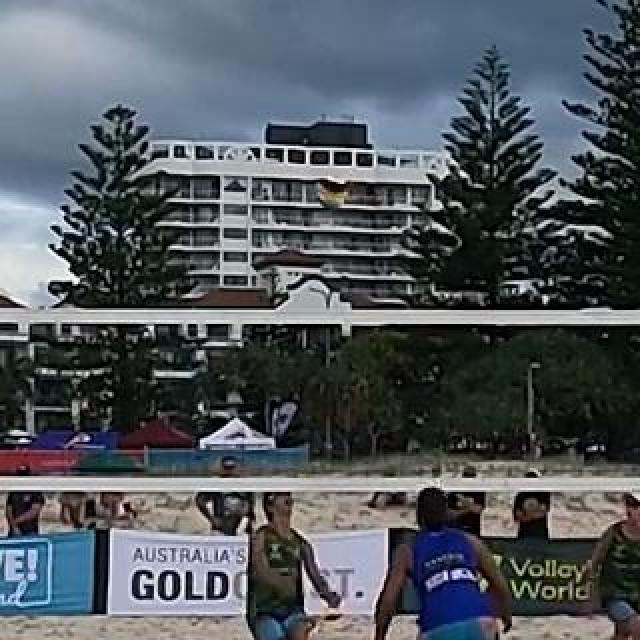volleyball: (314, 174, 348, 210)
